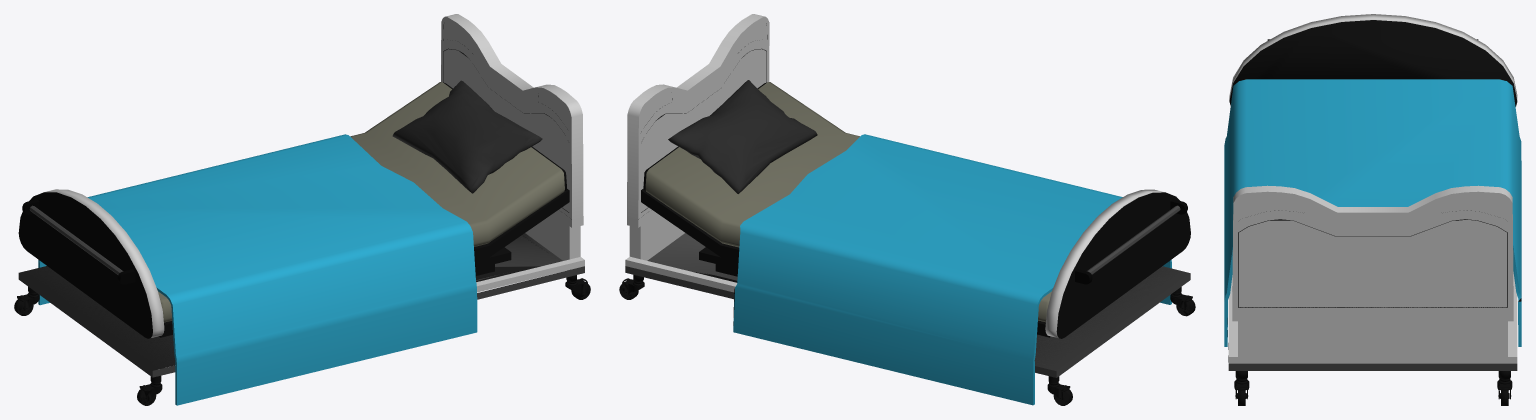
Rendered from Bed.fbx.
The picture shows the model from 3 angles, left to right: view 1: azimuth 30°, elevation 25°; view 2: azimuth 150°, elevation 25°; view 3: azimuth 270°, elevation 25°; orthographic projection. The views are drawn at different scales.
Parts seen in each view (by area): view 1: Plane.002; view 2: Plane.002; view 3: Plane.002.
Boxes of the visible parts, x1,y1,x2,y2 form: Plane.002: (14, 14, 590, 405); Plane.002: (619, 14, 1195, 405); Plane.002: (1224, 14, 1521, 405).
Size of the model in its own units: 43.79 by 18.21 by 23.05.
